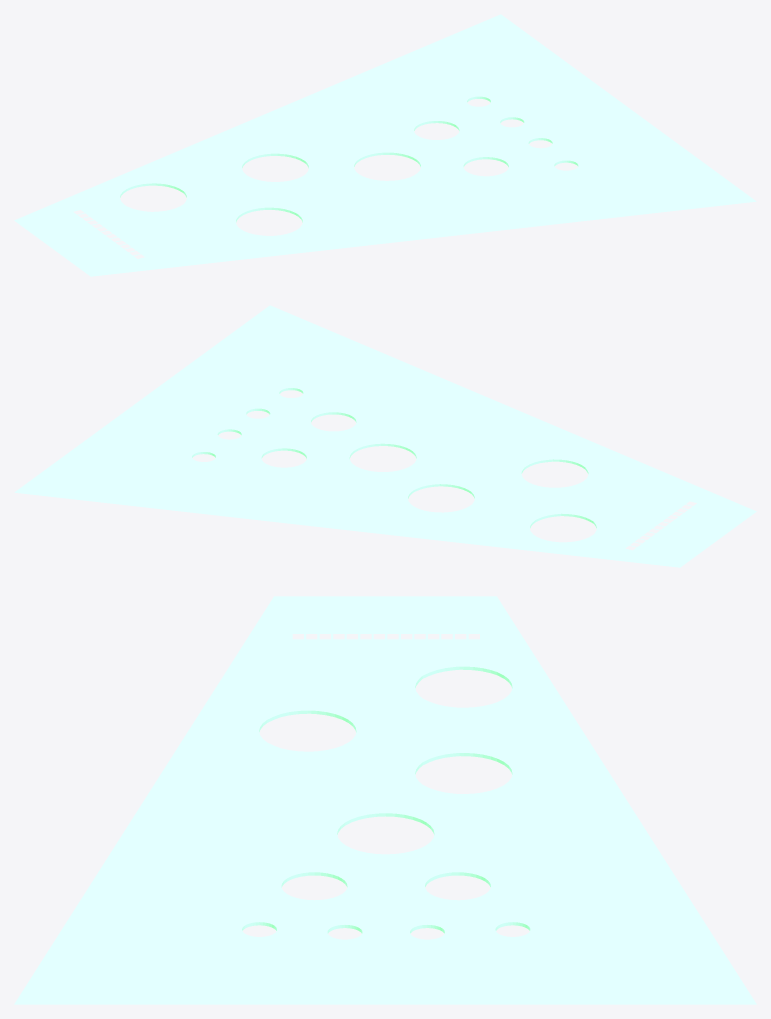
The model's file is grass.glb.
3 renders of one model, top to bottom at view 1: azimuth 30°, elevation 25°; view 2: azimuth 150°, elevation 25°; view 3: azimuth 270°, elevation 25°, orthographic. The views are drawn at different scales.
Parts seen in each view (by area): view 1: debug_view; view 2: debug_view; view 3: debug_view.
Boxes of the visible parts, box(x1,y1,x2,y2) form: debug_view: box(14, 14, 756, 276); debug_view: box(14, 305, 756, 567); debug_view: box(14, 596, 756, 1004).
Size of the model in its own units: 390 by 1.46 by 300.
